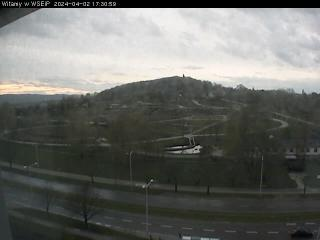car: (290, 226, 314, 239)
